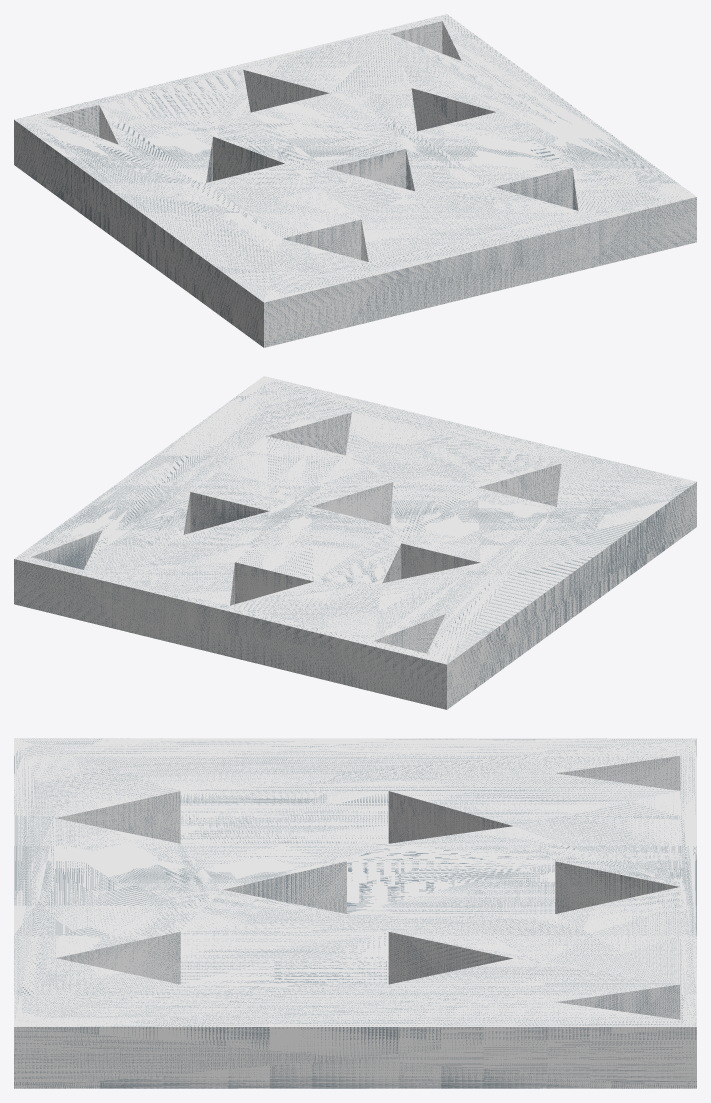
3 views of the same model, one above another, from view 1: azimuth 30°, elevation 25°; view 2: azimuth 150°, elevation 25°; view 3: azimuth 270°, elevation 25° (orthographic). The views are drawn at different scales.
Parts seen in each view (by area): view 1: Model; view 2: Model; view 3: Model.
Boxes of the visible parts, left/top/right/bottom form: Model: left=14, top=14, right=696, bottom=347; Model: left=14, top=376, right=696, bottom=709; Model: left=14, top=738, right=696, bottom=1088.
Size of the model in its own units: 5 by 0.5 by 5.
